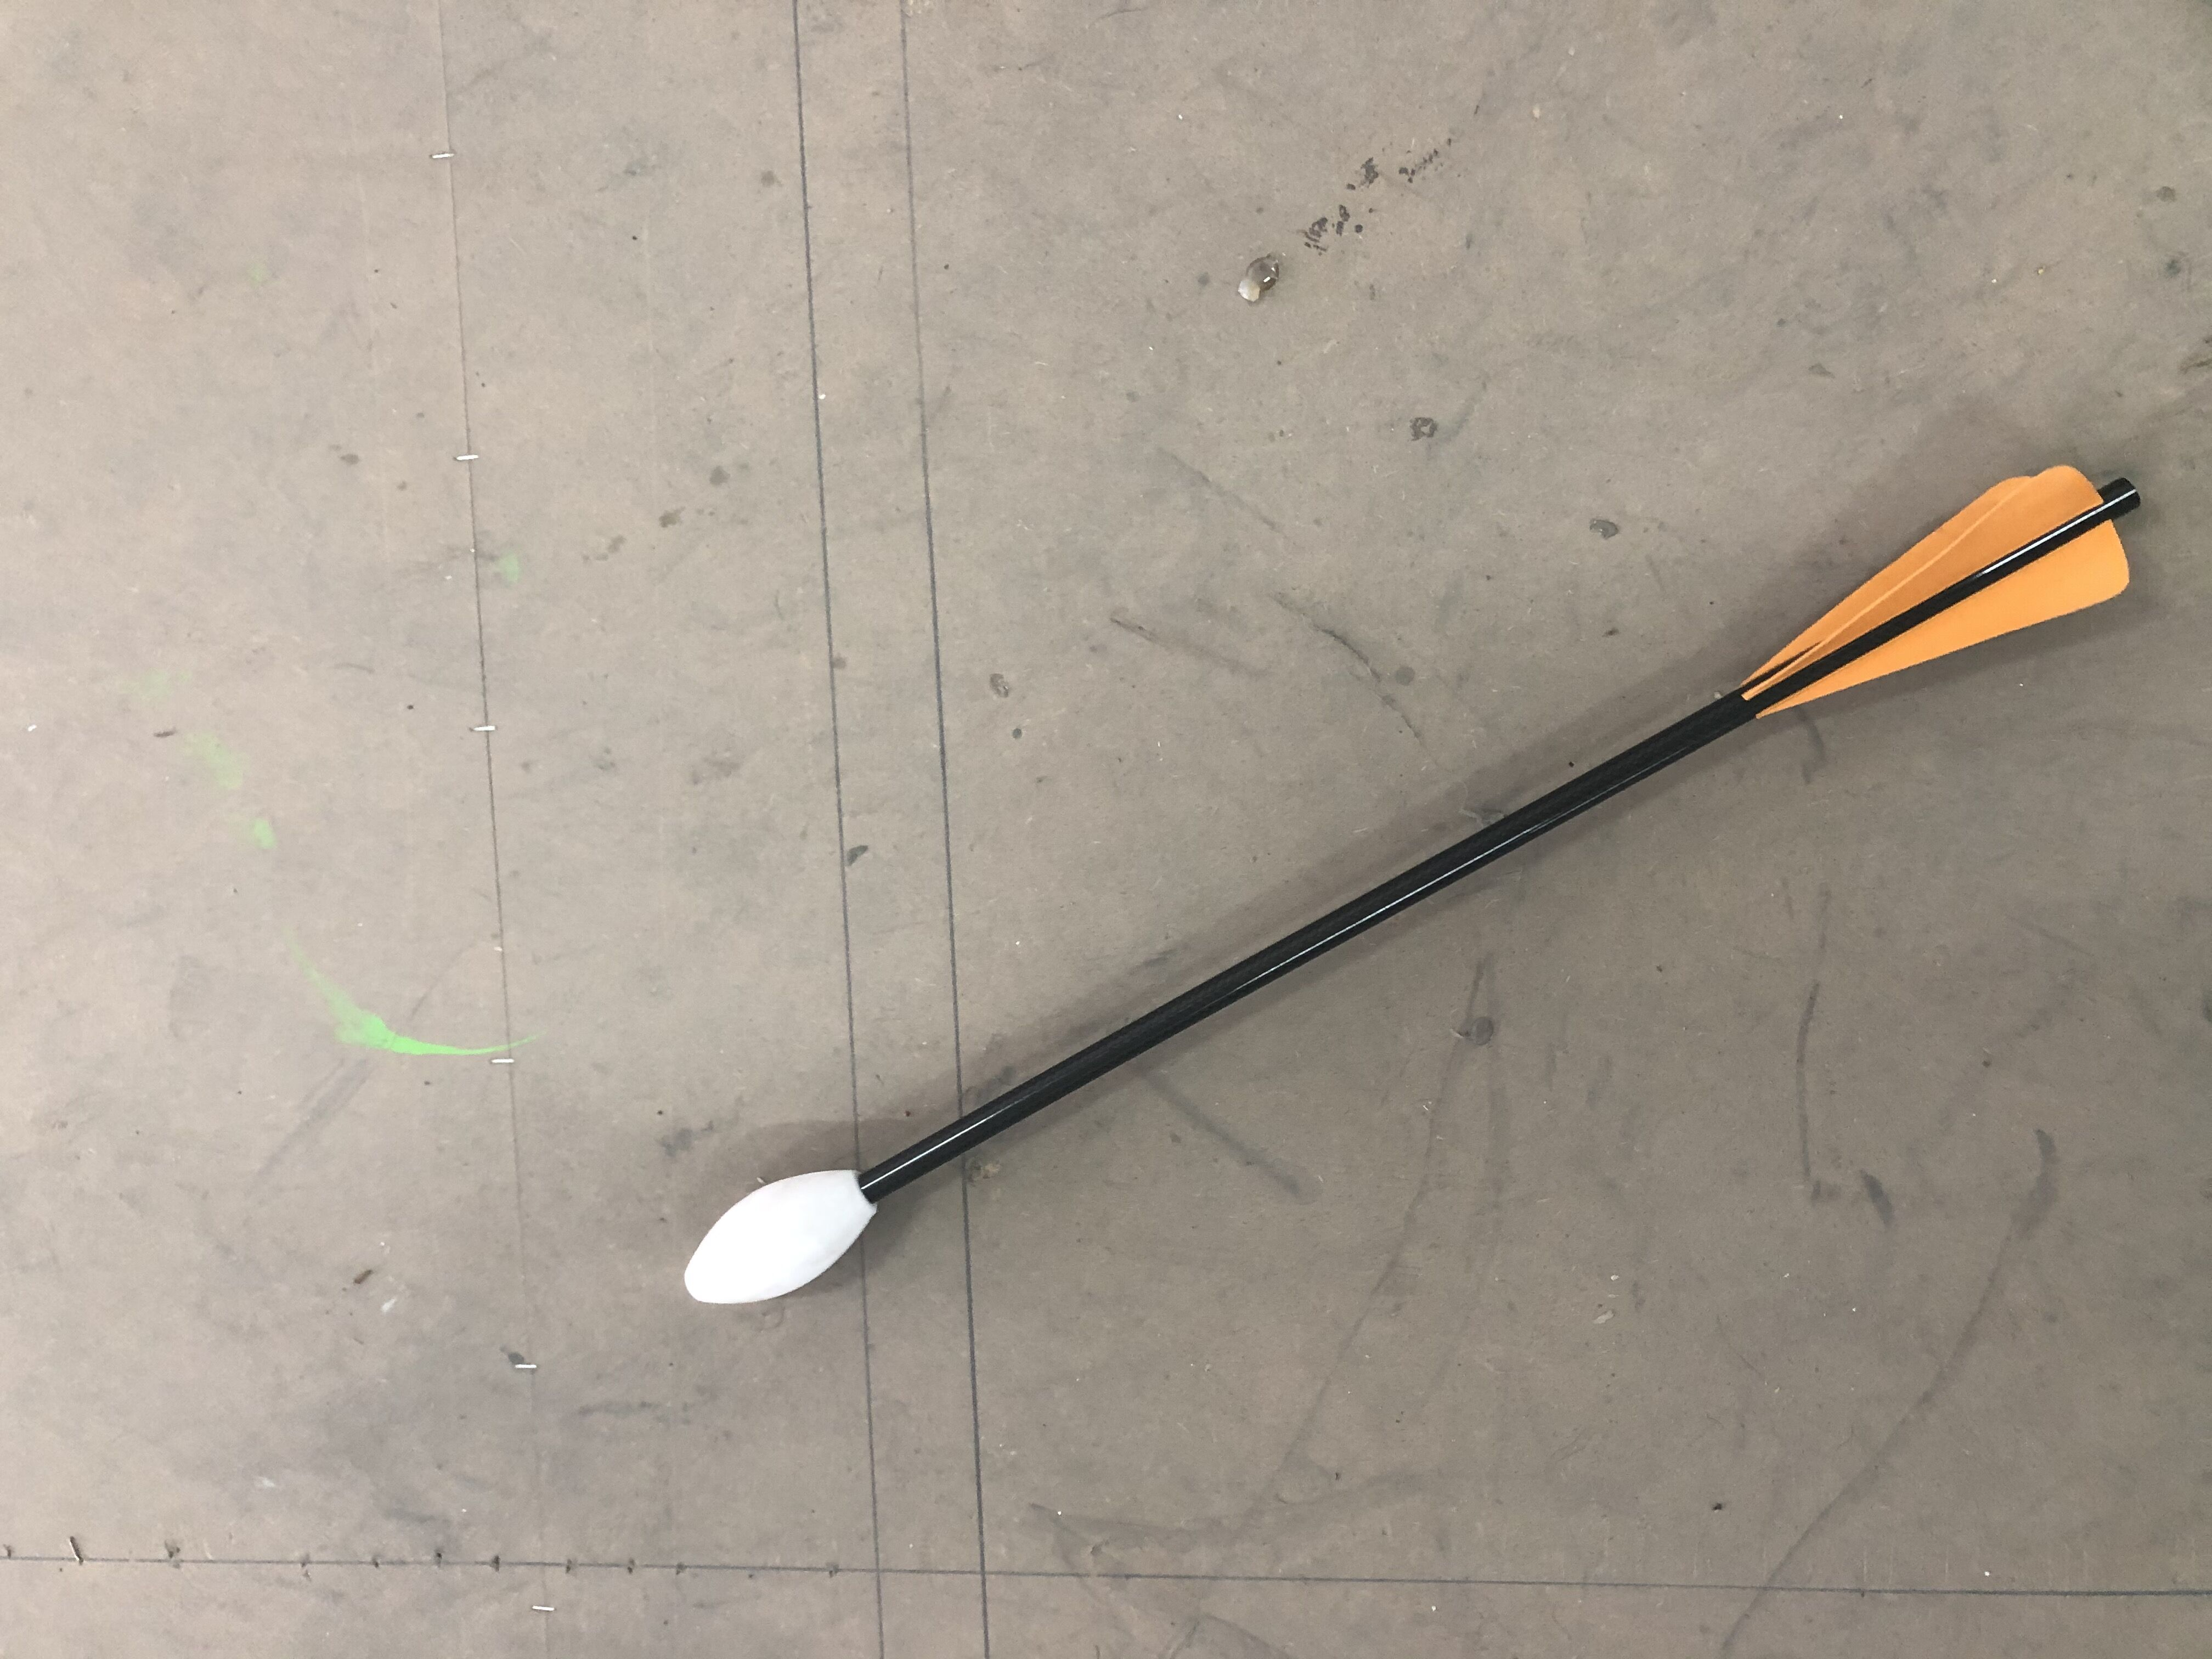arrow: (676, 460, 2149, 1316)
arrowFront: (681, 1161, 883, 1304)
